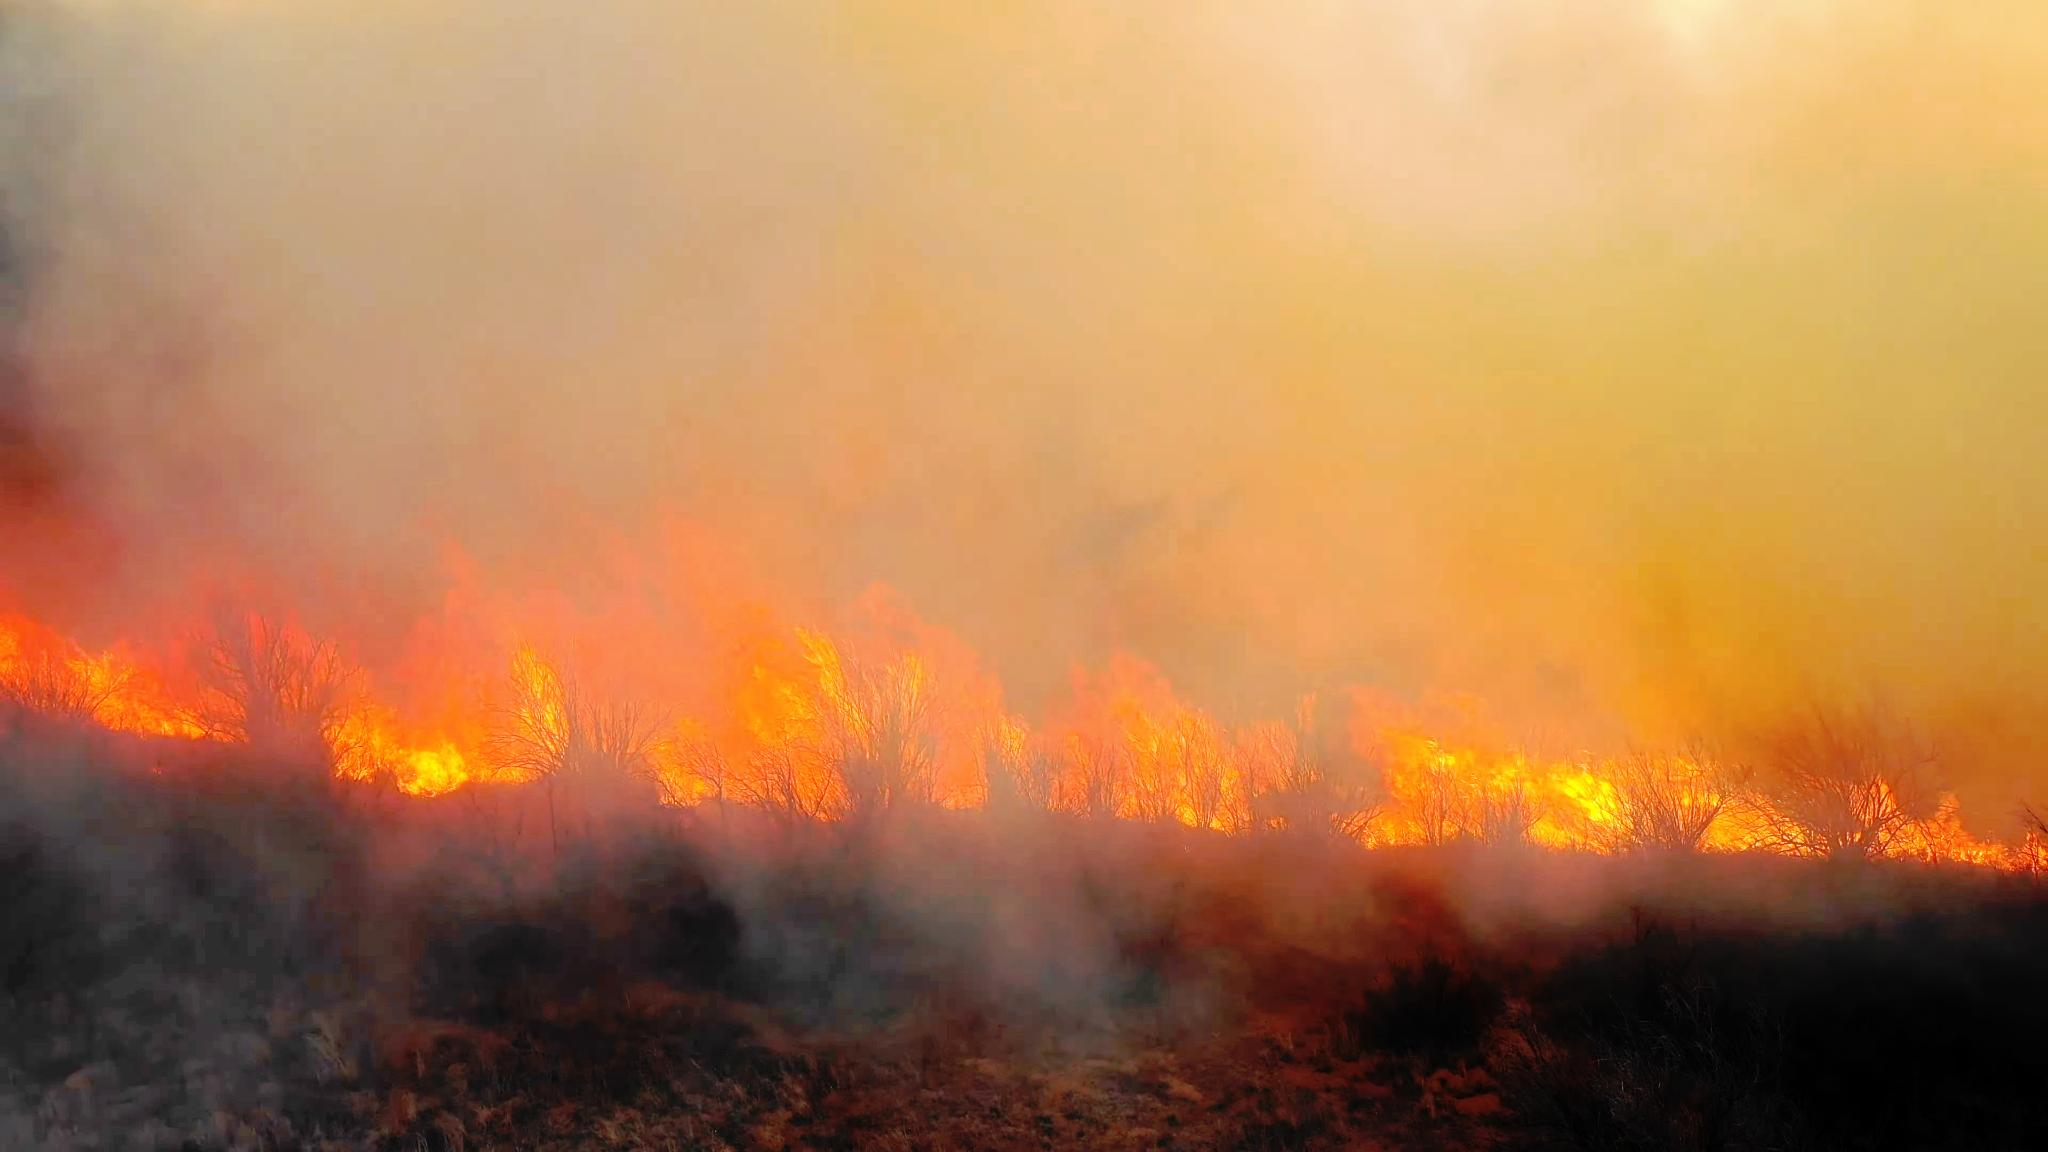fire: (280, 561, 640, 785), (622, 570, 928, 809), (836, 653, 1246, 826), (1326, 681, 1616, 858), (13, 570, 269, 748), (1620, 769, 1845, 850), (1862, 771, 2035, 866)
smoke: (124, 0, 2048, 461)
